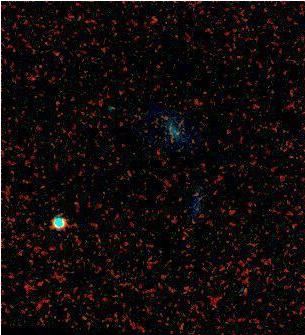star: (176, 122, 206, 152)
